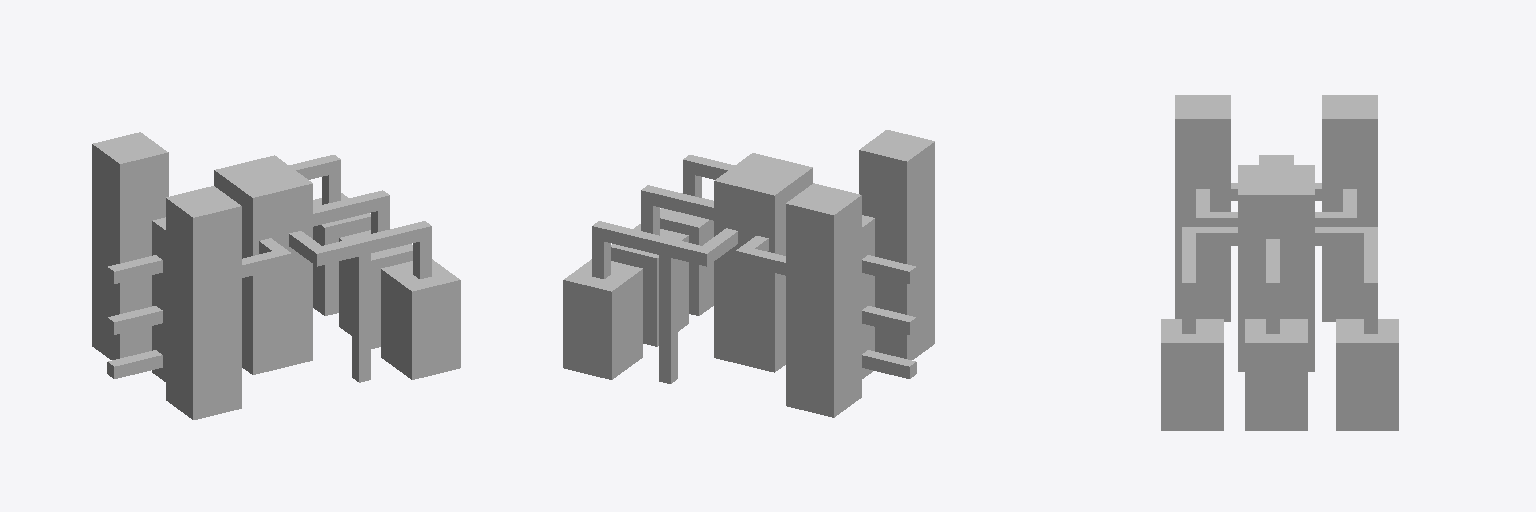
The model's file is steam_cracker.obj.
3 views of the same model, side by side, from view 1: azimuth 30°, elevation 25°; view 2: azimuth 150°, elevation 25°; view 3: azimuth 270°, elevation 25° (orthographic).
Parts seen in each view (by area): view 1: cube; view 2: cube; view 3: cube.
Boxes of the visible parts, <box> form: cube: <box>92,132,460,419</box>; cube: <box>563,130,934,417</box>; cube: <box>1161,95,1398,430</box>.
Size of the model in its own units: 3 by 2.06 by 2.12.